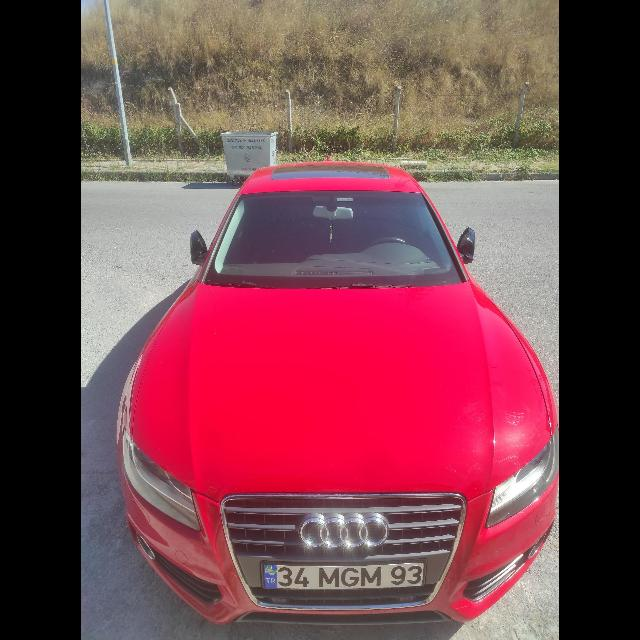Plaka: (263, 563, 425, 589)
